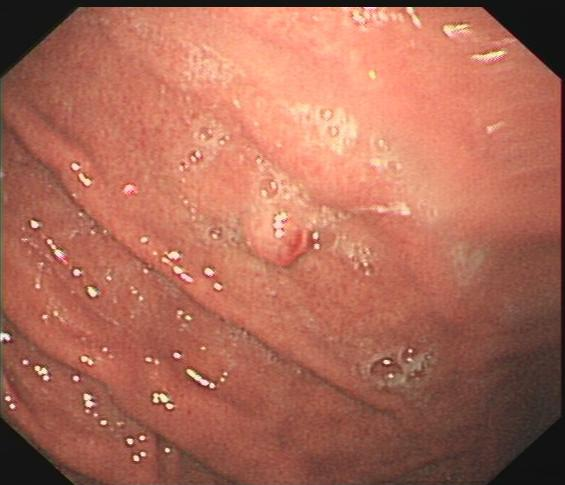Polyp: (242, 209, 315, 275)
